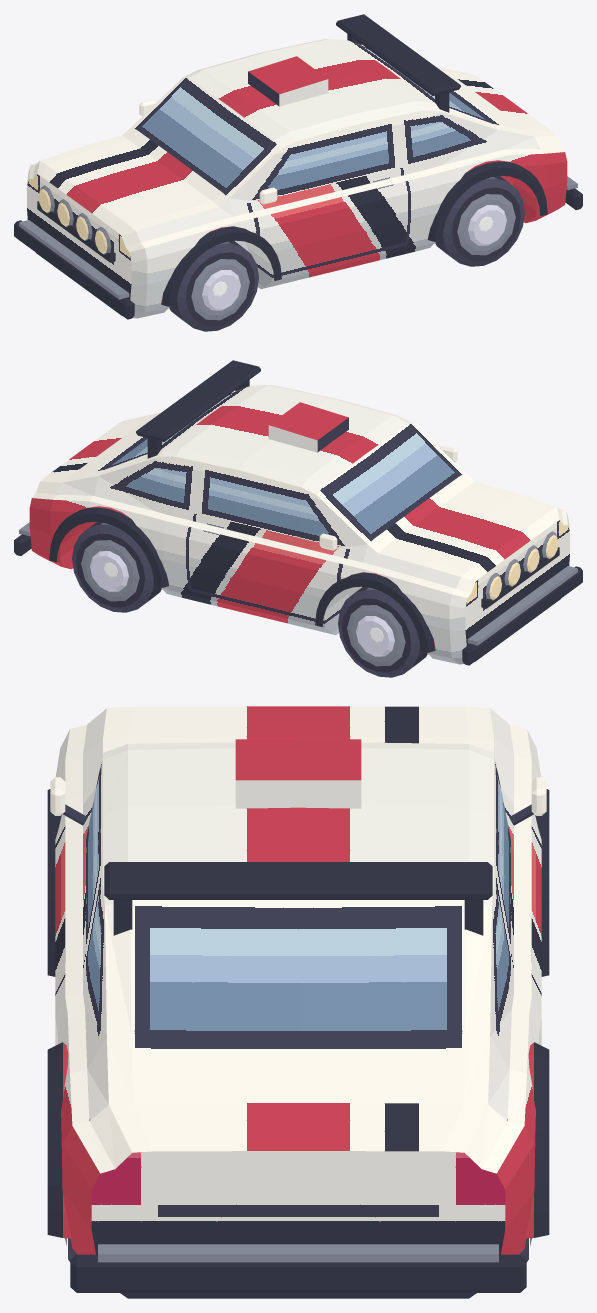
3 renders of one model, top to bottom at view 1: azimuth 30°, elevation 25°; view 2: azimuth 150°, elevation 25°; view 3: azimuth 270°, elevation 25°, orthographic. The views are drawn at different scales.
Parts seen in each view (by area): view 1: Body_static, Wheel_RL_tire_hub, Wheel_FL_tire_hub; view 2: Body_static, Wheel_RR_tire_hub, Wheel_FR_tire_hub; view 3: Body_static.
Part boxes in pixels (left/top/right/bottom): Body_static: left=14, top=14, right=582, bottom=319; Wheel_RL_tire_hub: left=435, top=176, right=524, bottom=266; Wheel_FL_tire_hub: left=169, top=241, right=258, bottom=331; Body_static: left=14, top=360, right=582, bottom=665; Wheel_RR_tire_hub: left=72, top=522, right=161, bottom=612; Wheel_FR_tire_hub: left=338, top=587, right=427, bottom=677; Body_static: left=47, top=706, right=549, bottom=1298.
Size of the model in its own units: 73.48 by 28.52 by 34.78.
1 material, 1 textured.
